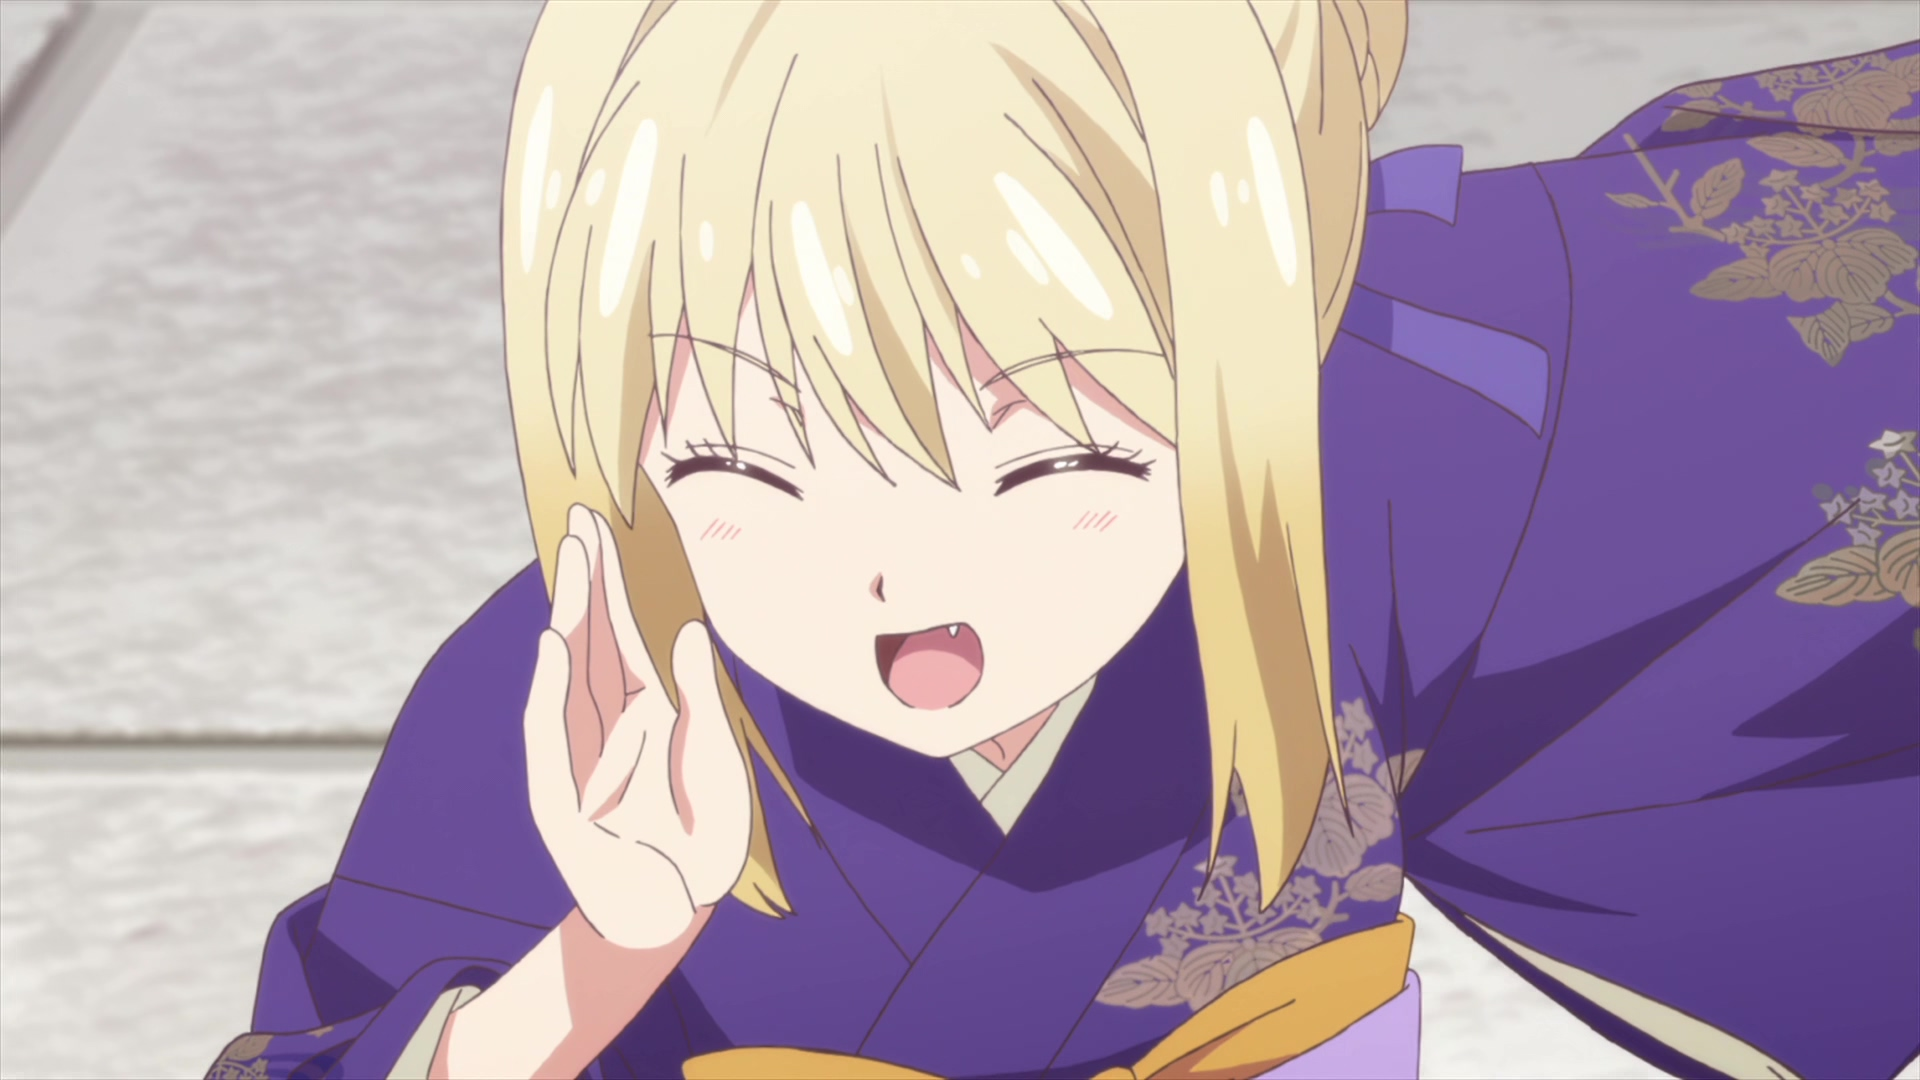桐: (204, 1, 1920, 1080)
